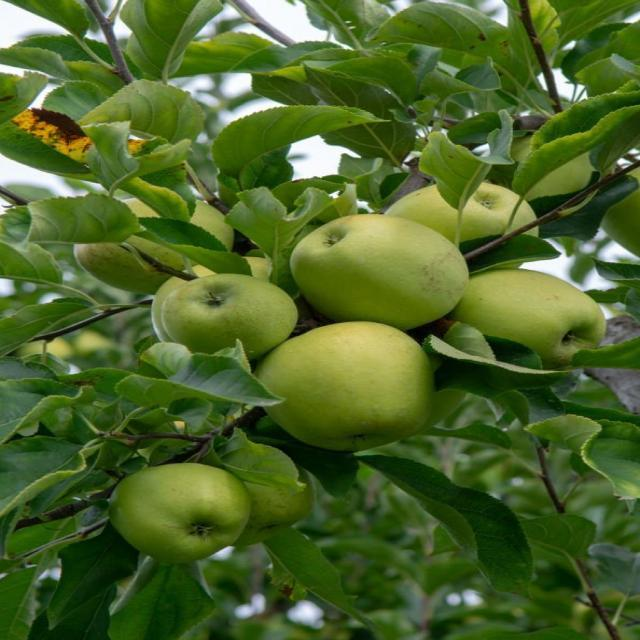Green Apple: (259, 322, 424, 456), (295, 216, 452, 322), (459, 269, 612, 376), (386, 176, 545, 262), (75, 204, 222, 289), (108, 469, 238, 562), (162, 242, 276, 324), (168, 272, 285, 349), (500, 136, 617, 206), (228, 468, 315, 540), (613, 140, 640, 260)
